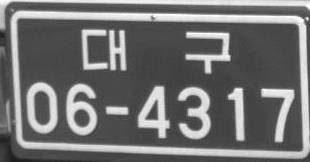0: (25, 81, 58, 133)
1: (222, 87, 256, 142)
3: (178, 86, 211, 139)
4: (137, 84, 170, 139)
6: (65, 82, 98, 136)
7: (260, 86, 294, 142)
대구_D: (80, 28, 230, 74)
